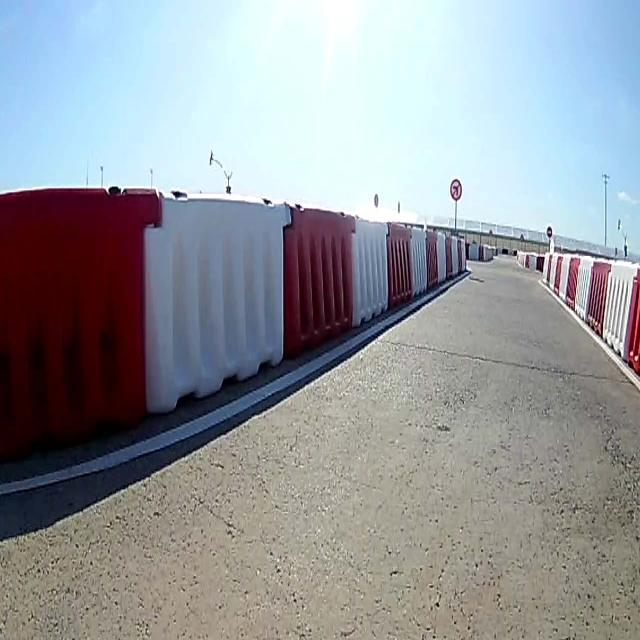soladonulmez: (448, 176, 462, 200)
